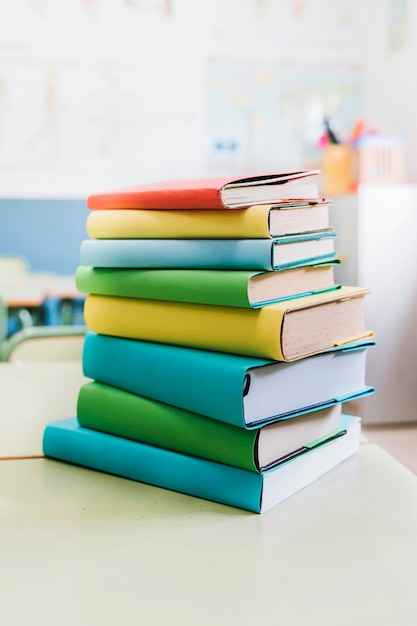book: (80, 190, 371, 493)
